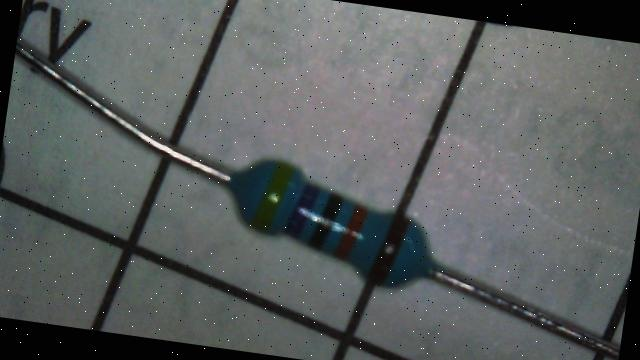black: (307, 190, 343, 253)
brown: (366, 210, 409, 285)
orange: (334, 202, 368, 261)
resistor: (204, 127, 474, 330)
violet: (284, 181, 320, 240)
yellow: (250, 159, 295, 234)
